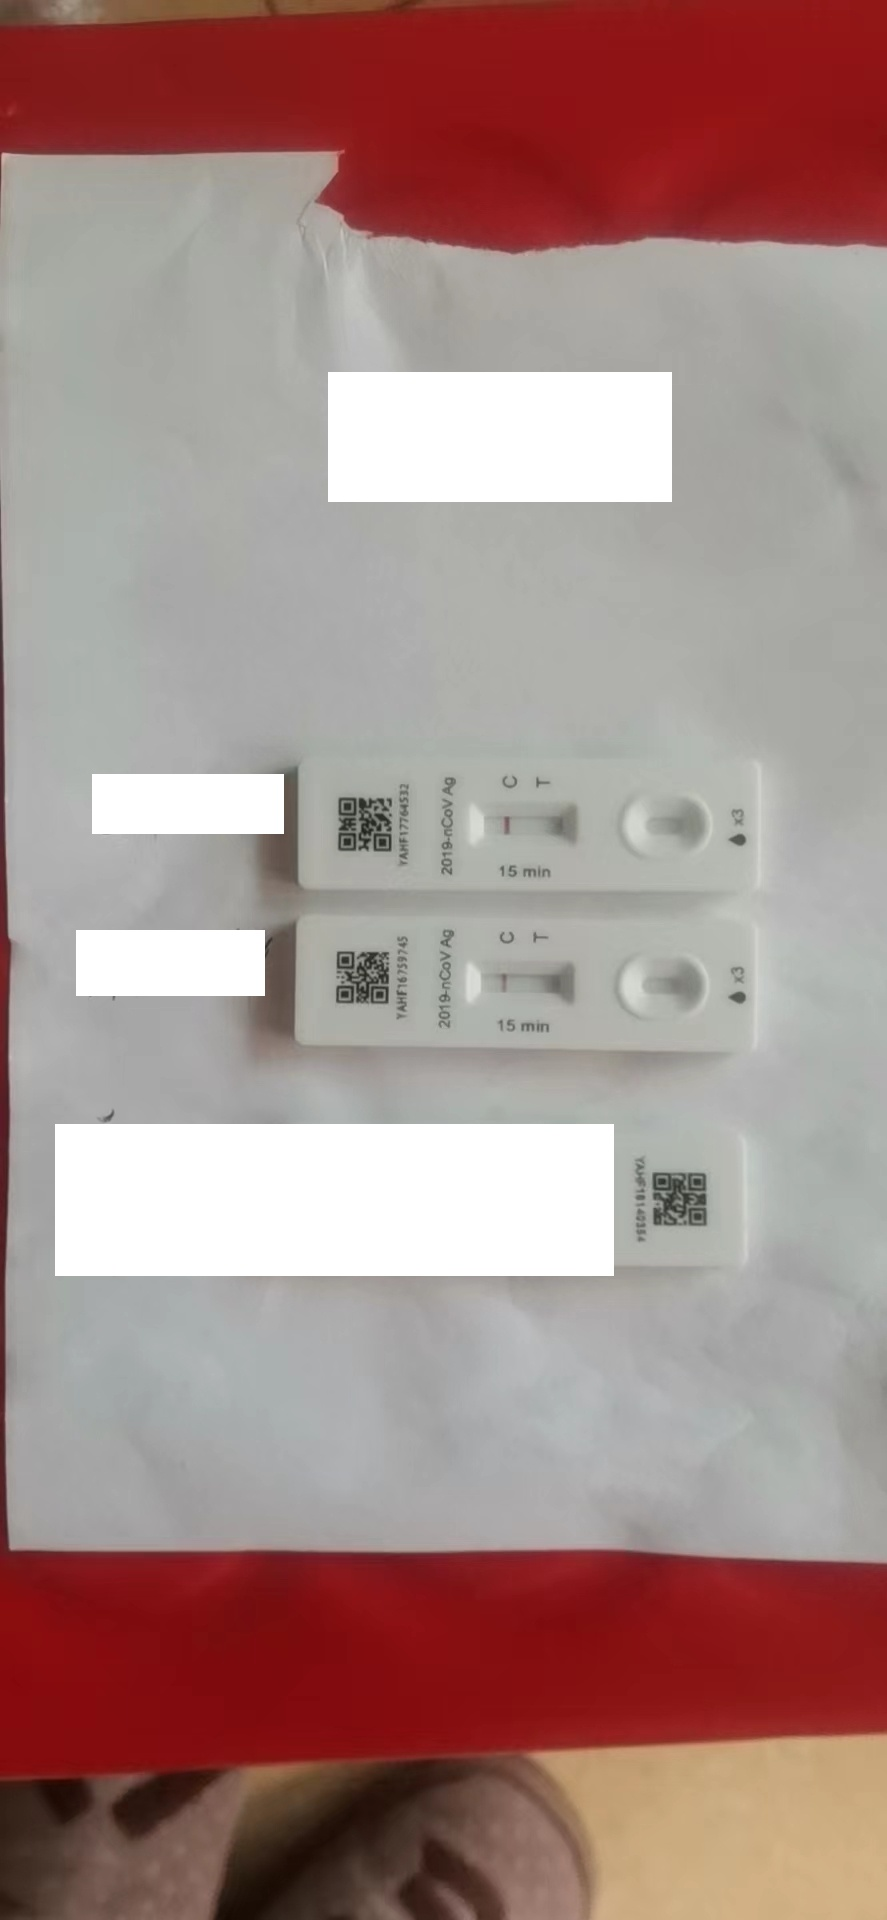negative: (470, 961, 578, 1008), (469, 802, 578, 847)
